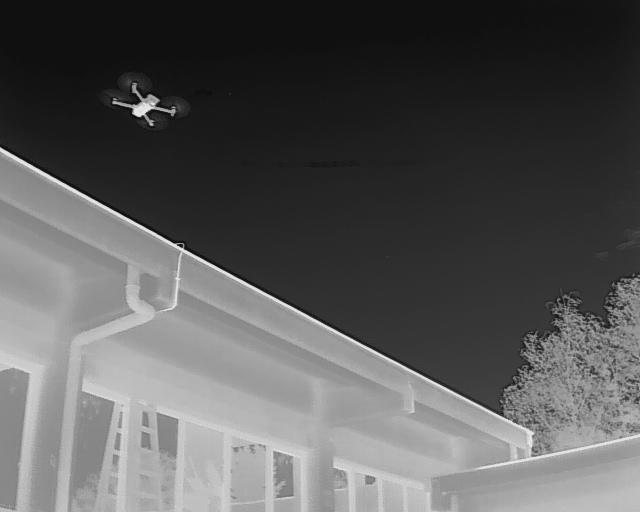drone: (94, 68, 196, 136)
